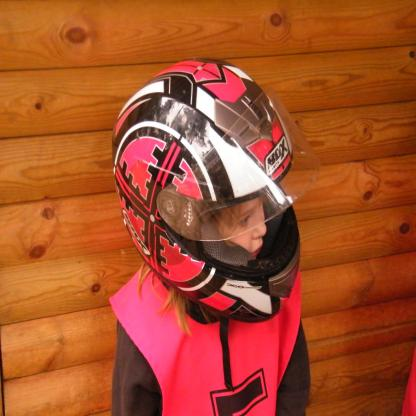Helmet: (111, 56, 322, 392)
